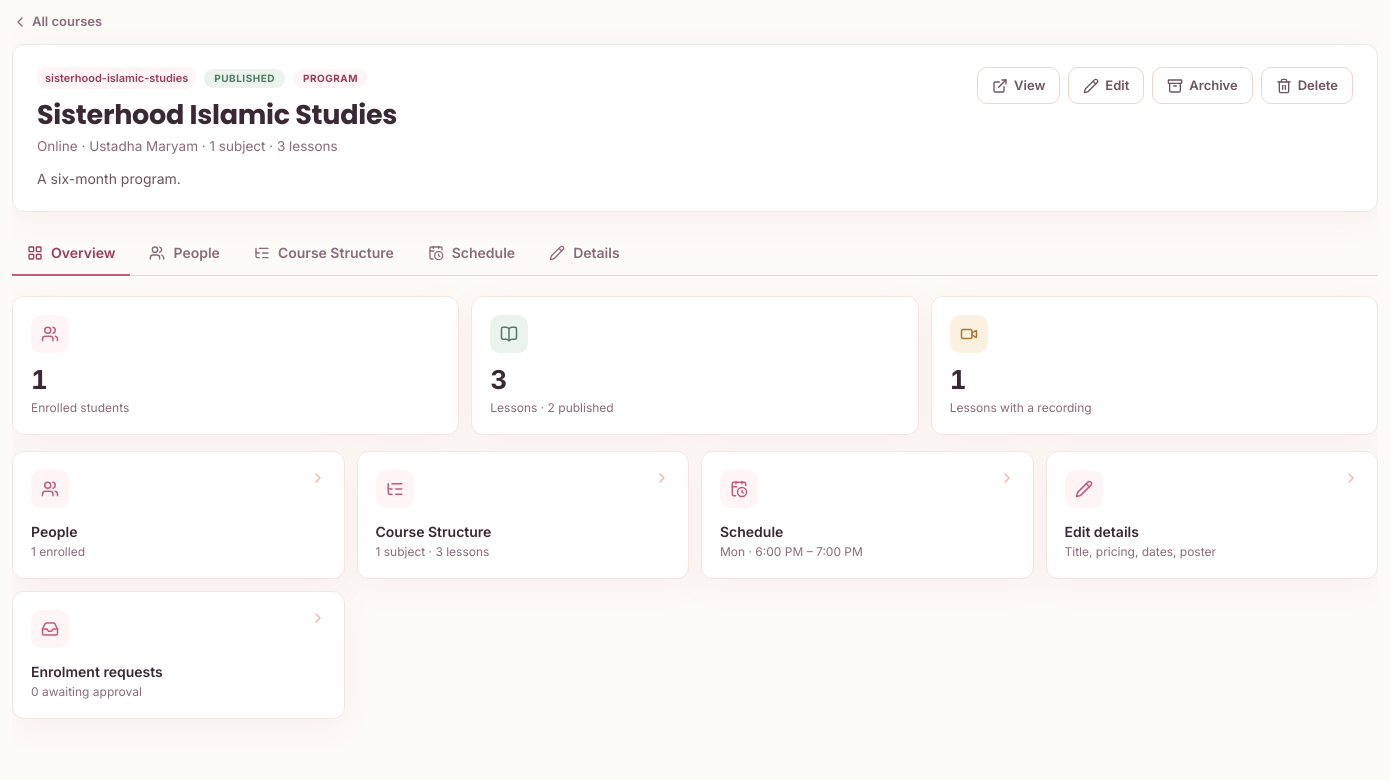
Scenario: CourseWorkspace › shows the weekly slot and dated lessons on Schedule
This screenshot has width=1390, height=780.
What coordinates should you click on to do the following:
click the tab "Schedule"
I would click on:
 (472, 254)
Its box is [413,232,530,276].
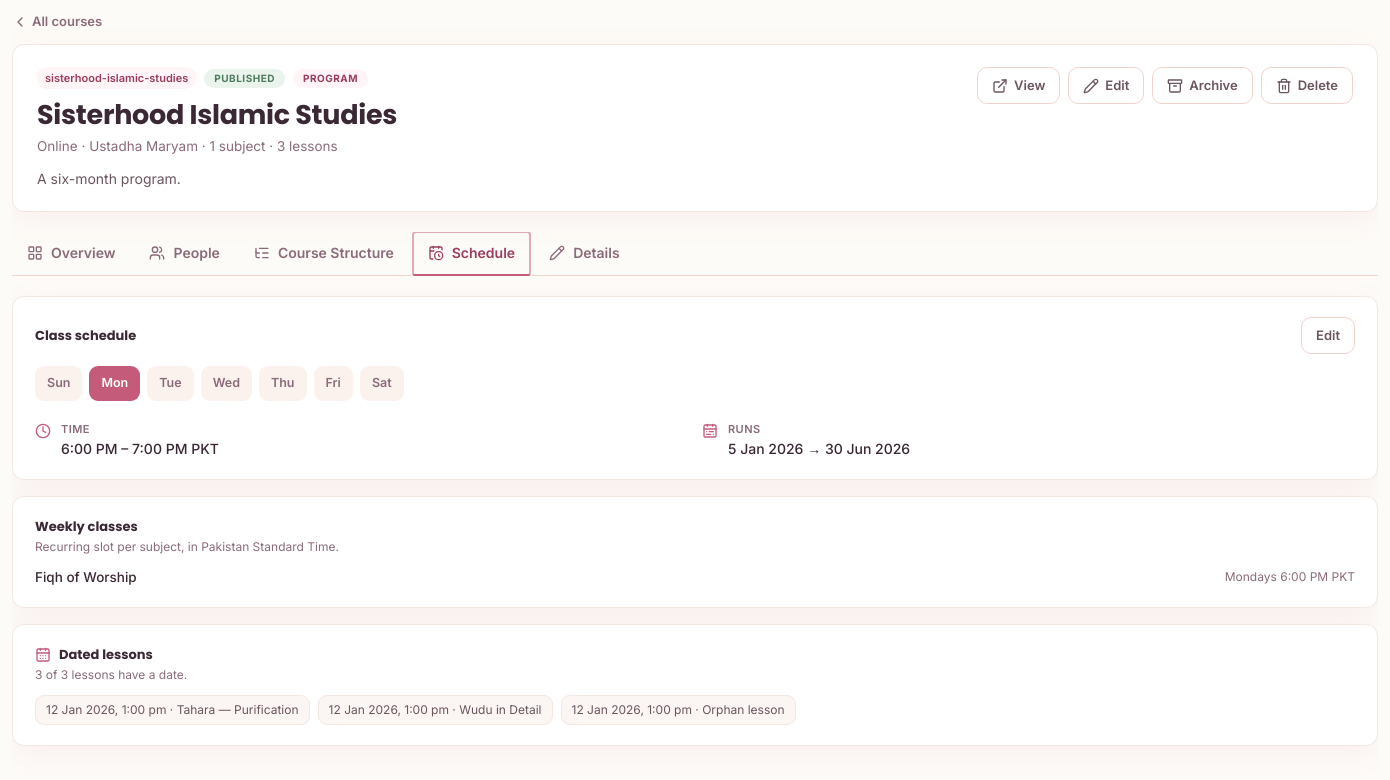
Expected: the heading "Weekly classes" is shown, [35,517,138,536]
Expected: the text "Mondays 6:00 PM PKT" is shown, [1225,569,1355,585]
Expected: the text "3 of 3 lessons have a date." is shown, [35,666,187,682]
